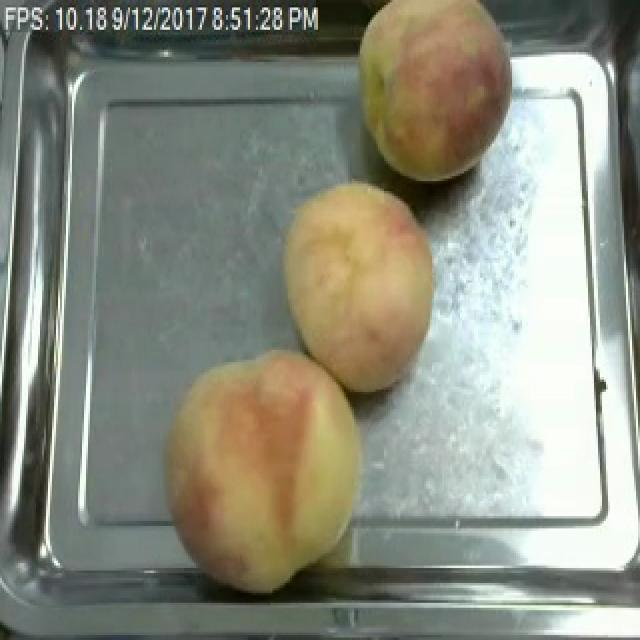Fruit: (156, 340, 376, 600), (270, 172, 444, 400), (344, 0, 520, 191)
